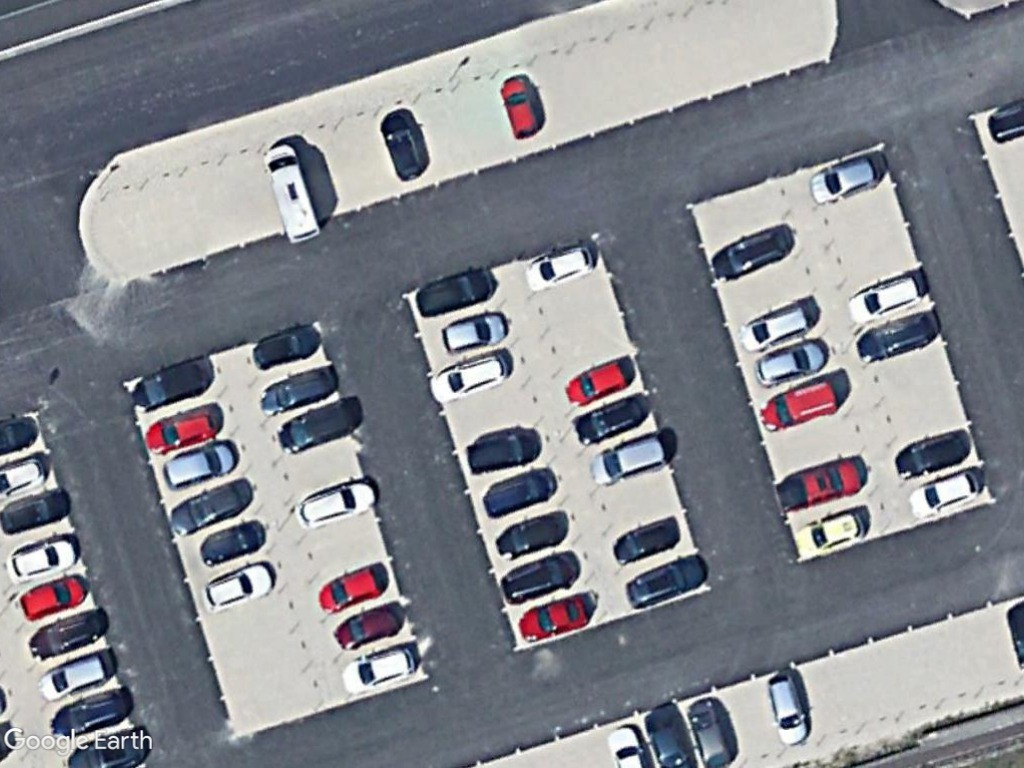car: (165, 478, 250, 544), (621, 551, 712, 611), (850, 309, 939, 368), (257, 357, 345, 416), (756, 376, 839, 434), (587, 433, 669, 491), (710, 226, 790, 283), (47, 688, 133, 741), (336, 643, 419, 697), (29, 607, 108, 663), (246, 320, 327, 374), (142, 404, 226, 456), (904, 465, 983, 520), (312, 562, 391, 617), (891, 429, 976, 480), (293, 480, 378, 531), (328, 600, 405, 656), (427, 349, 509, 401), (807, 150, 883, 206), (846, 273, 923, 328), (201, 560, 276, 616), (572, 392, 647, 447), (496, 551, 573, 604), (37, 649, 113, 702), (750, 339, 831, 388), (682, 695, 736, 768), (763, 668, 811, 750), (158, 439, 238, 488), (522, 241, 595, 294), (607, 518, 685, 567), (738, 301, 812, 352), (5, 535, 79, 586), (516, 593, 590, 642), (480, 470, 554, 519), (378, 112, 428, 184), (463, 431, 539, 478), (563, 356, 632, 407), (17, 573, 86, 624), (792, 510, 865, 558), (0, 490, 71, 537), (493, 511, 562, 559), (439, 312, 508, 359), (198, 520, 268, 563), (499, 74, 538, 141)
van: (261, 144, 323, 248), (128, 357, 218, 415), (273, 398, 361, 456), (408, 266, 493, 320)
